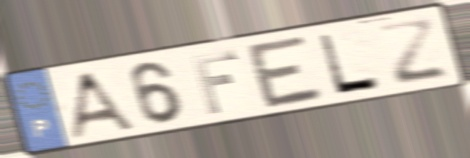6: (128, 59, 187, 126)
A: (66, 68, 140, 141)
E: (243, 32, 328, 112)
F: (188, 48, 242, 117)
L: (315, 31, 385, 97)
Z: (374, 17, 452, 88)
